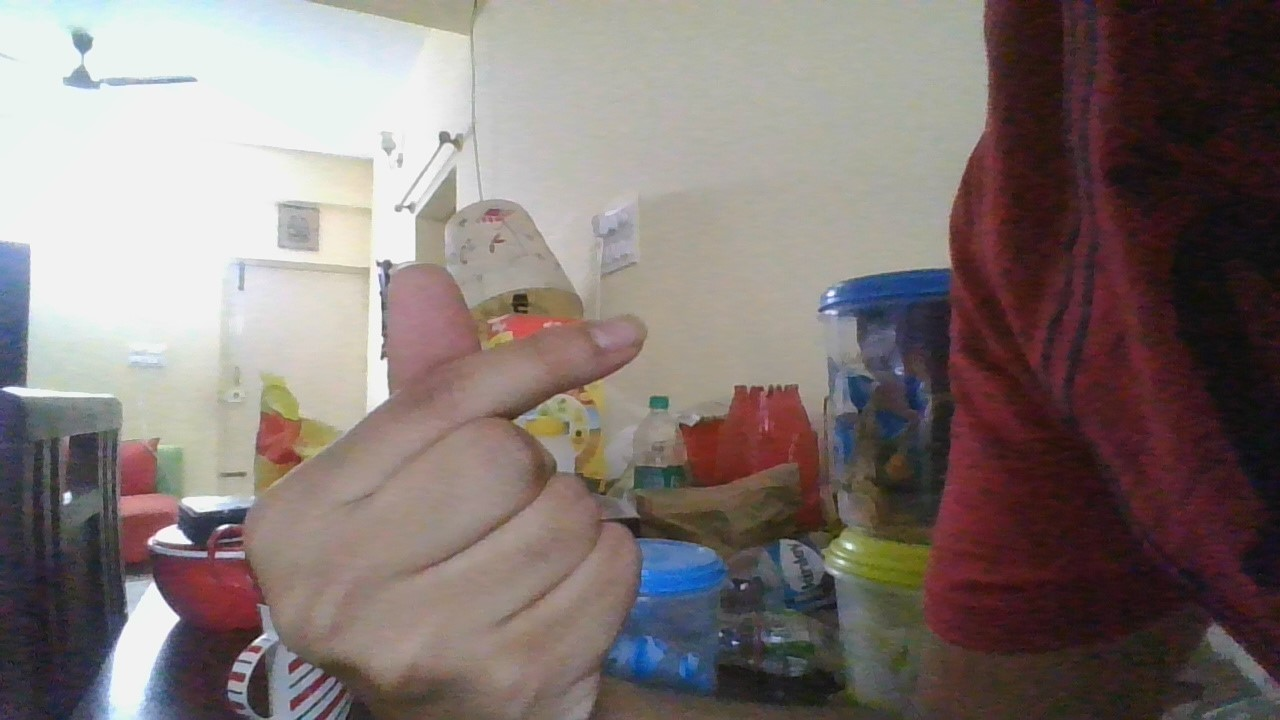eof: (239, 262, 653, 718)
